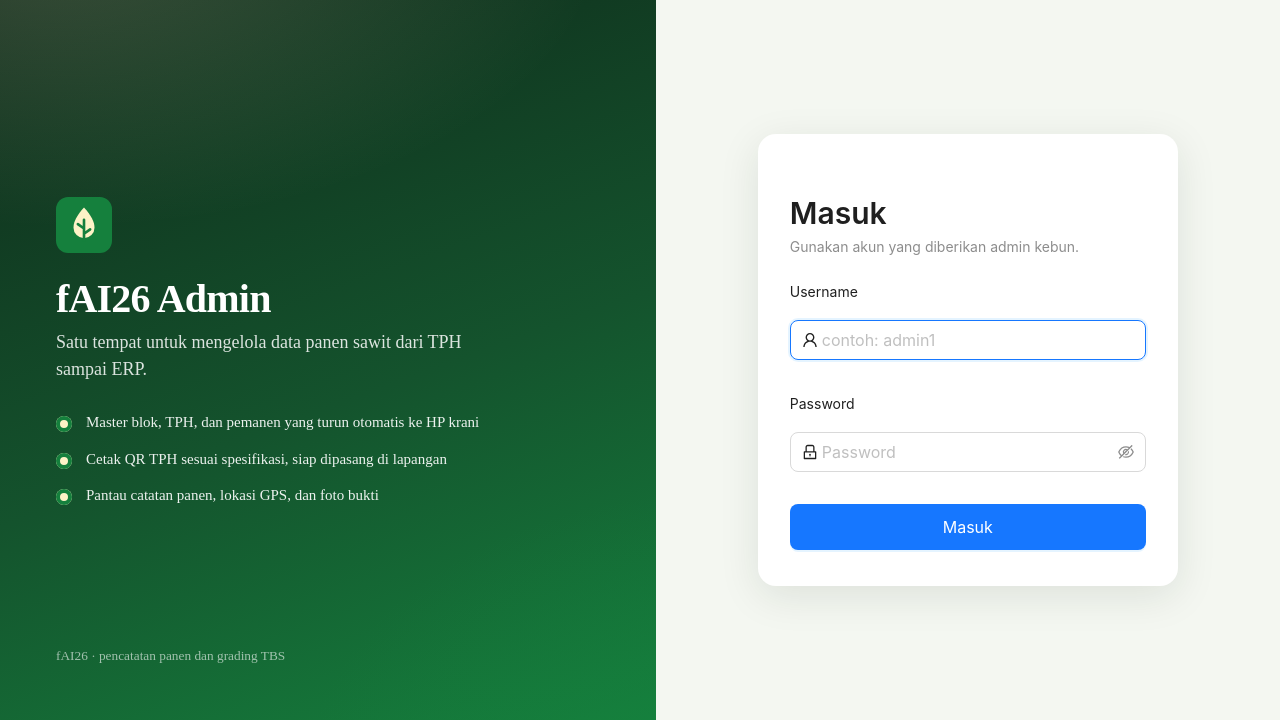
LoginPage › password salah menampilkan pesan dari server dan form tetap bisa dipakai
Type "admin1" into the field labelled "Username" at {"x": 978, "y": 340}, box [822, 328, 1134, 352]
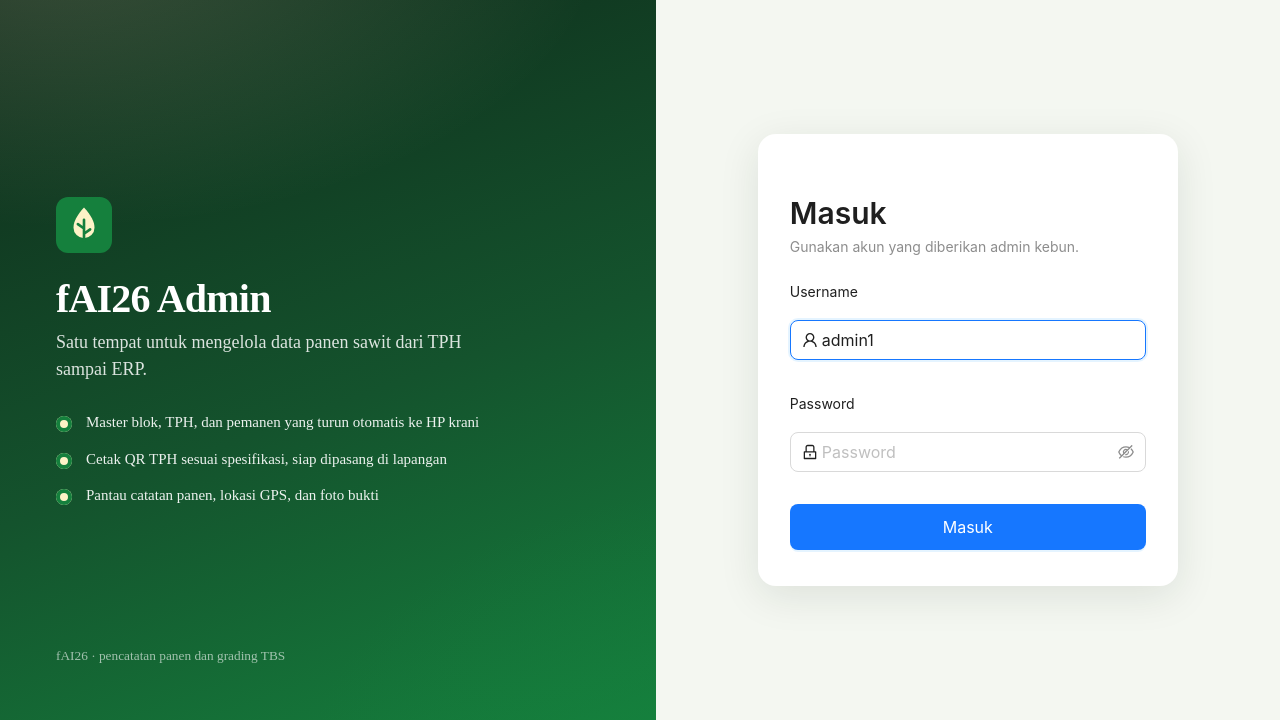
Type "salah" into the password field labelled "Password" at {"x": 968, "y": 452}, box [822, 440, 1114, 464]
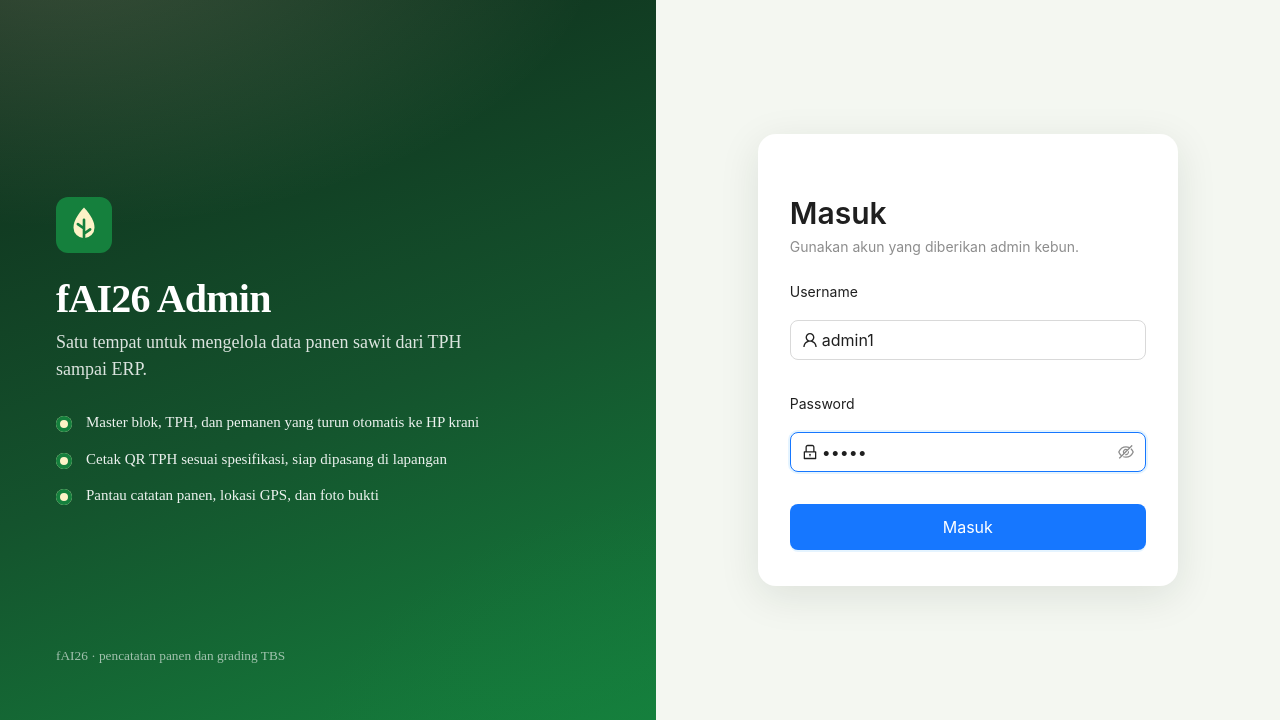
Click the button "Masuk" at {"x": 968, "y": 527}, box [790, 504, 1146, 550]
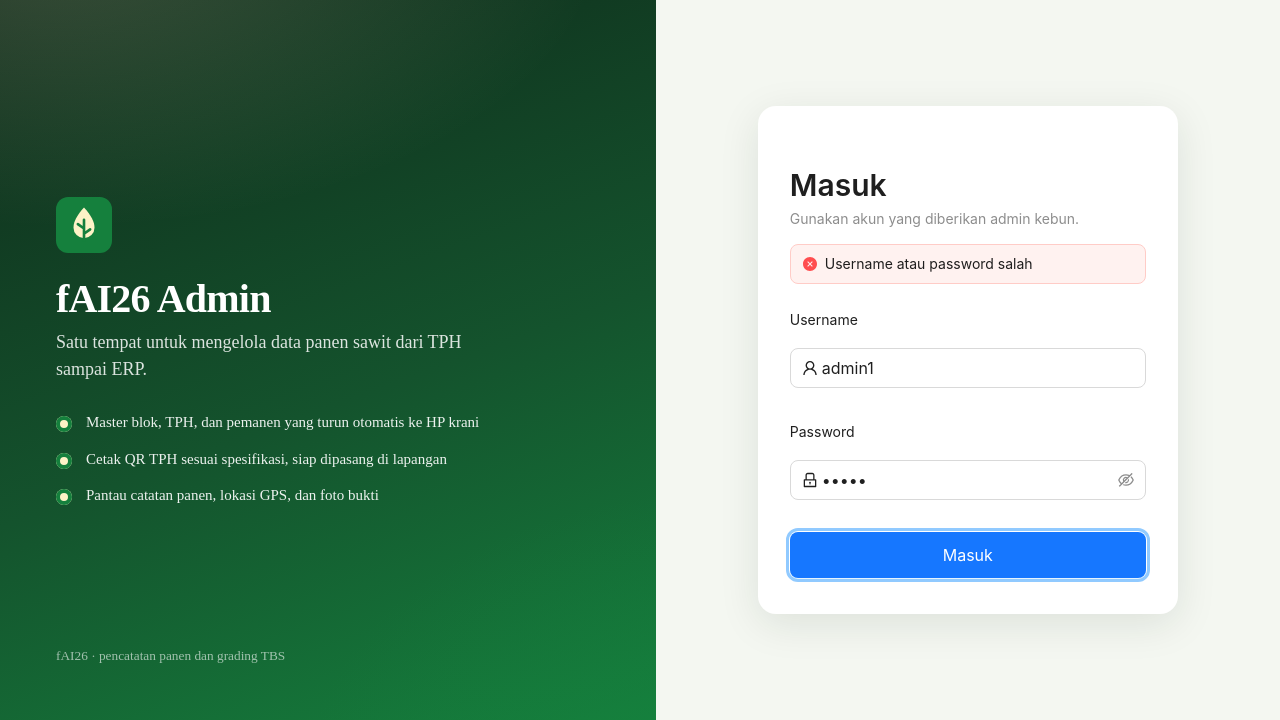
Expected: the button "Masuk" is enabled, [790, 532, 1146, 578]
Result: the message reads "Username atau password salah" at [825, 255, 1033, 272]
